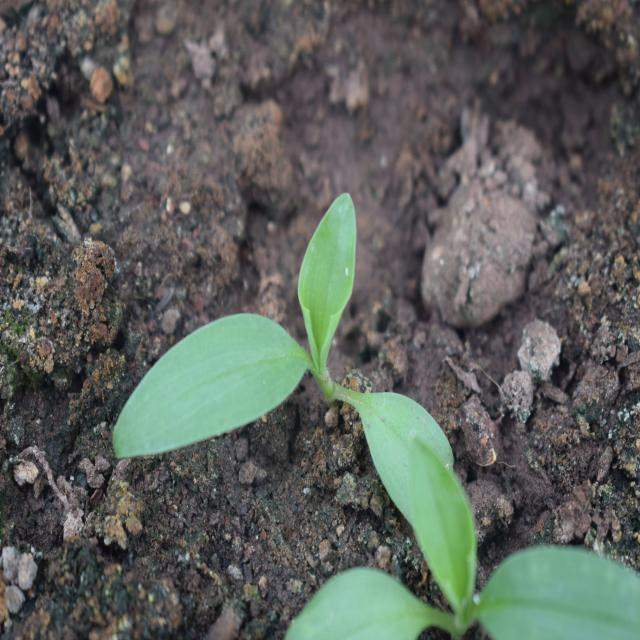Common Dayflower: (119, 208, 461, 522)
